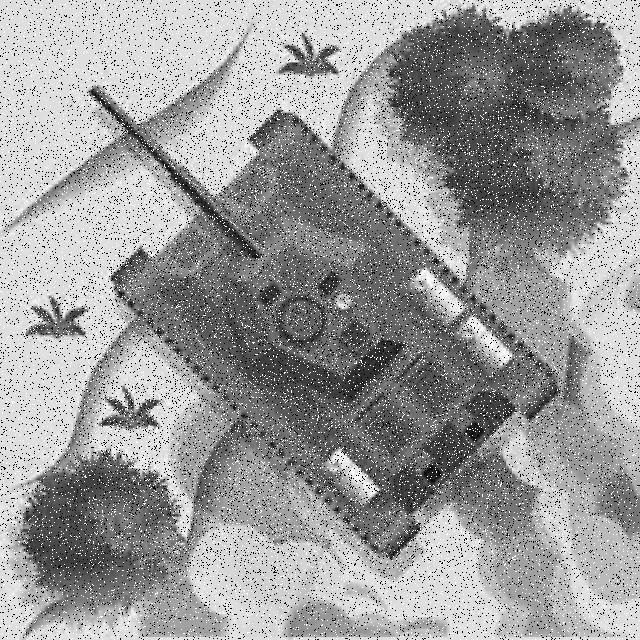MIL_MBT: (84, 85, 564, 565)
